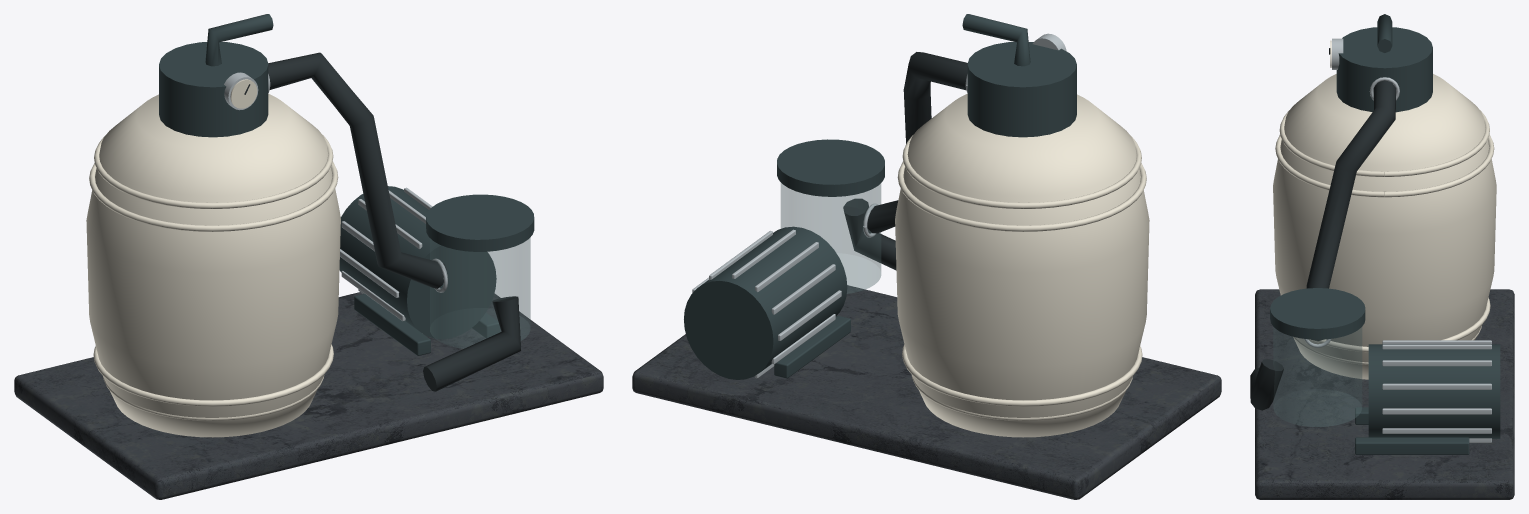
Rendered from outdoor-pool-equipment.glb.
The picture shows the model from 3 angles, left to right: view 1: azimuth 30°, elevation 25°; view 2: azimuth 150°, elevation 25°; view 3: azimuth 270°, elevation 25°; orthographic projection. The views are drawn at different scales.
Parts seen in each view (by area): view 1: outdoor-pool-equipment authored assembly; view 2: outdoor-pool-equipment authored assembly; view 3: outdoor-pool-equipment authored assembly.
Part boxes in pixels (x1,y1,x2,y2): outdoor-pool-equipment authored assembly: (14, 14, 603, 499); outdoor-pool-equipment authored assembly: (632, 14, 1221, 499); outdoor-pool-equipment authored assembly: (1250, 14, 1514, 499).
Bounding box in the file's own units: 0.96 × 0.8 × 0.55.
6 materials, 1 textured.
